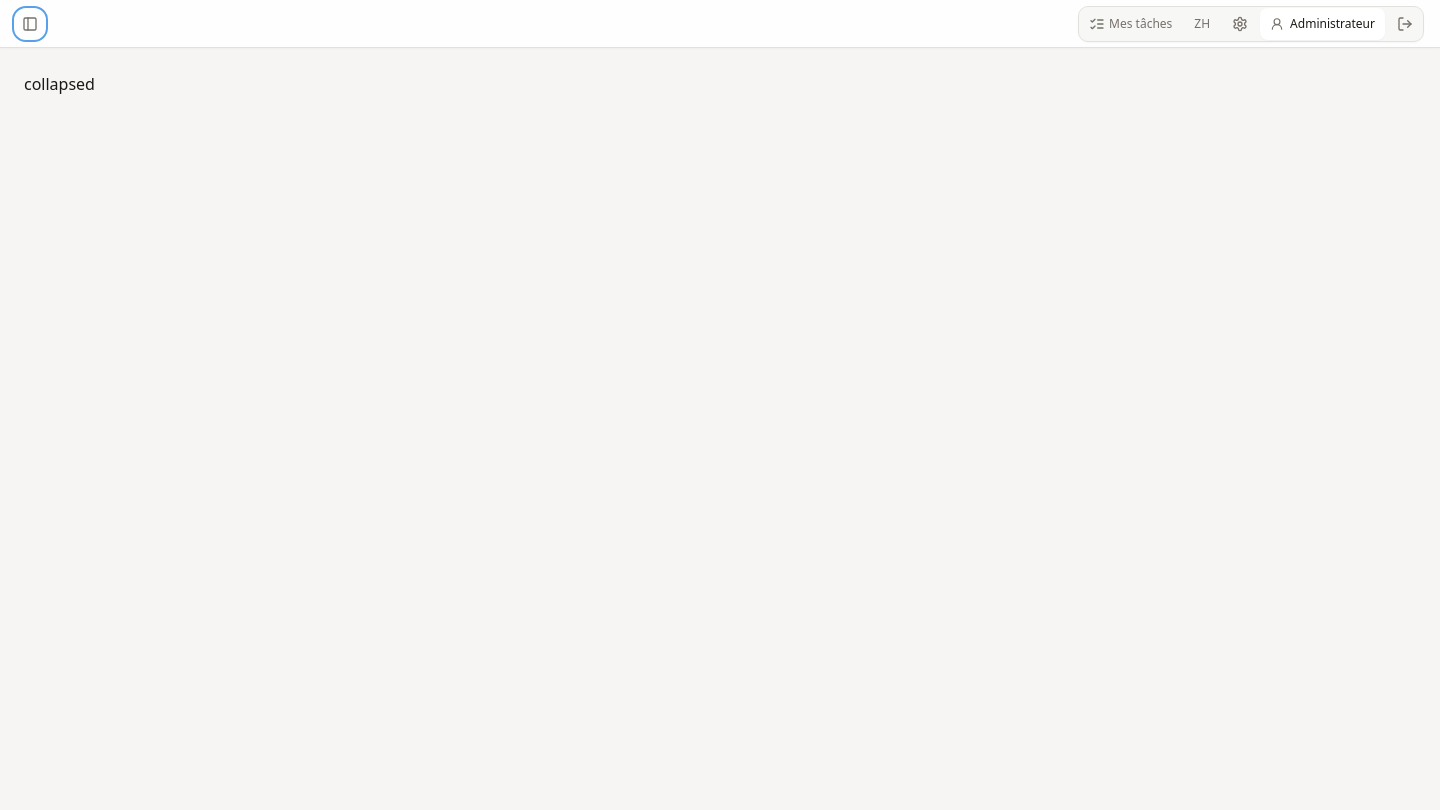
Scenario: opens a named real Radix fr dialog even with a collapsed desktop preference
Expected: the text "collapsed" is shown, x1=24 y1=73 x2=95 y2=95
What coordinates should you click on to do the following:
click the button named "Afficher ou masquer le menu"
I would click on:
 (30, 24)
Its box is x1=16 y1=10 x2=44 y2=38.
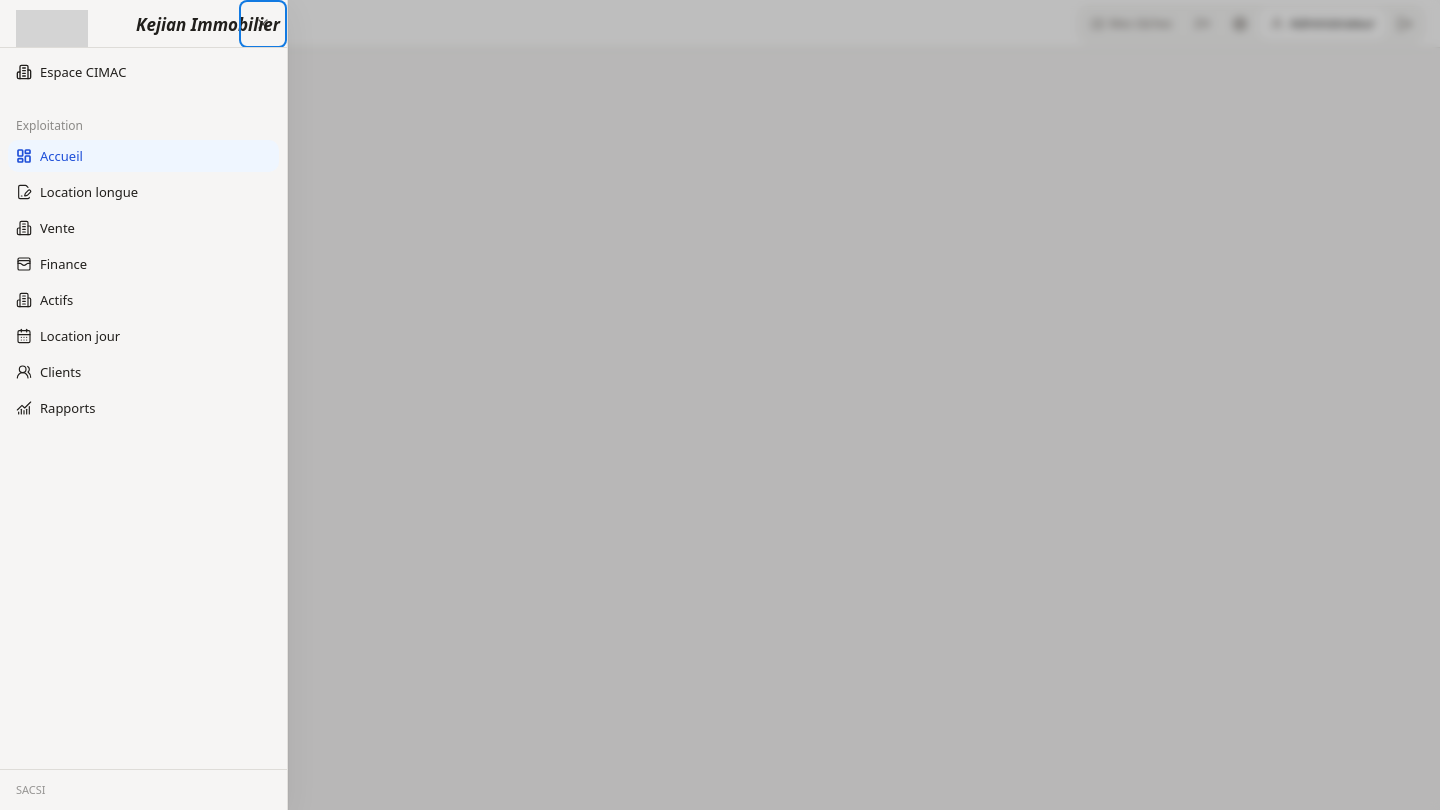
Now the dialog is shown, box x1=0 y1=0 x2=288 y2=809
